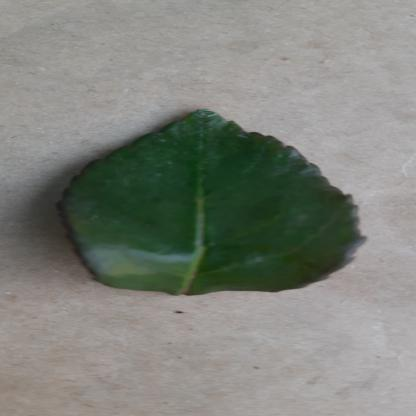normal: (38, 108, 369, 297)
